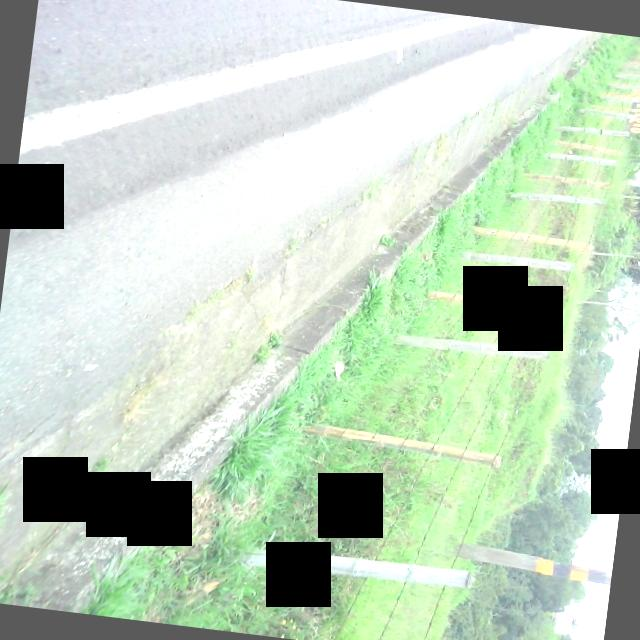DITCH: (0, 0, 606, 640), (0, 0, 559, 640)
